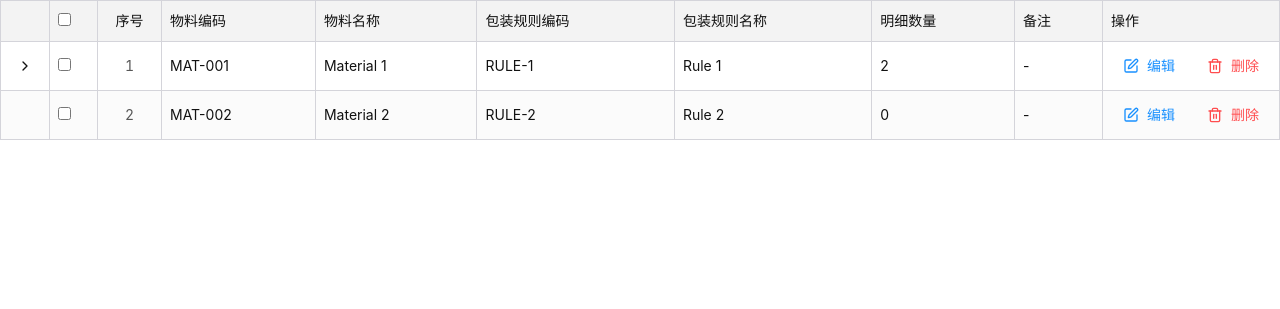
Scenario: MaterialPackagingRelationTable › expands relation details and preserves zero and empty values
Click the button named "展开 MAT-001": (25, 66) [9, 50, 41, 82]
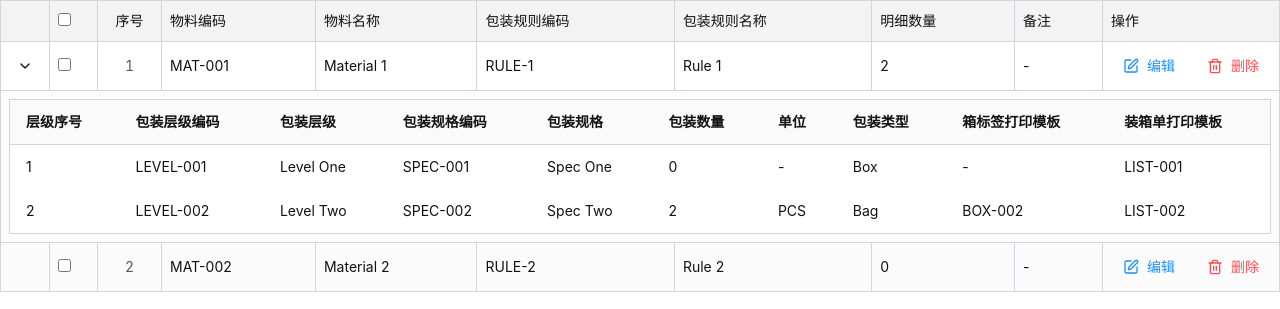
Expected: the column heading "层级序号" is shown, [10, 100, 120, 144]
Expected: the column heading "包装层级编码" is shown, [120, 100, 264, 144]
Expected: the column heading "包装层级" is shown, [264, 100, 387, 144]
Click the button named "收起 MAT-001": (25, 66) [9, 50, 41, 82]
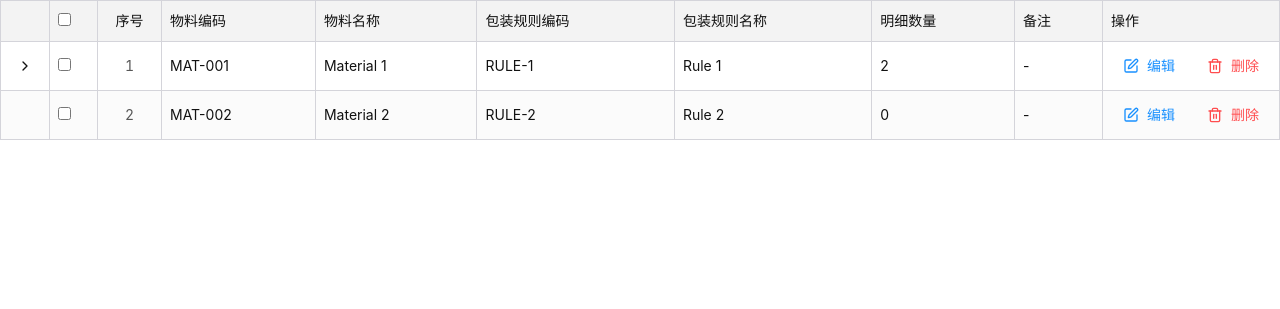
Expected: the element with test id "material-packaging-relation-details-1" is gone
